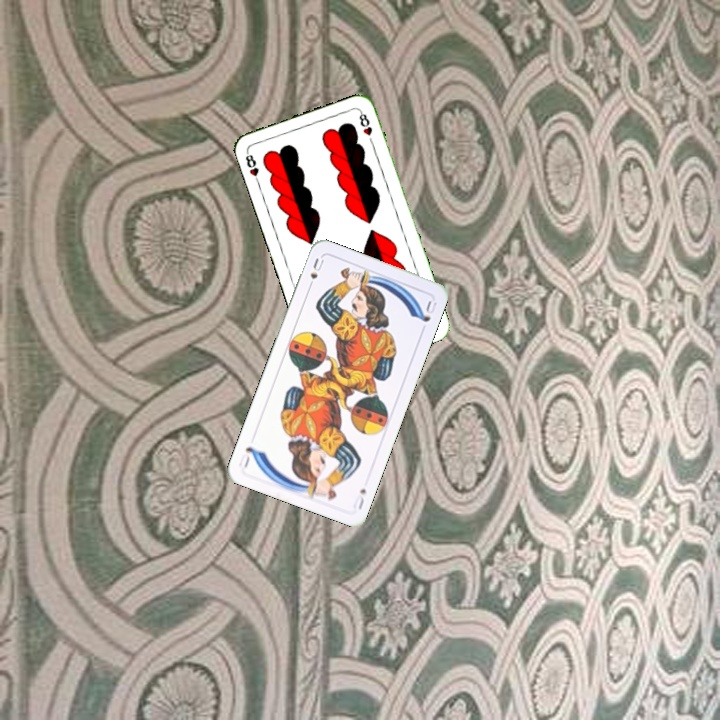H8: (241, 147, 262, 187)
SU: (304, 254, 327, 292), (349, 484, 369, 513)
